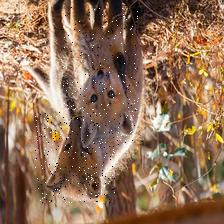fox: (61, 6, 139, 149), (34, 108, 114, 203)
